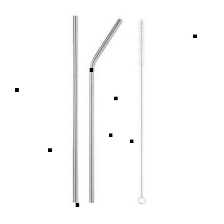drinking_straw: (86, 13, 125, 205), (67, 10, 81, 205)
